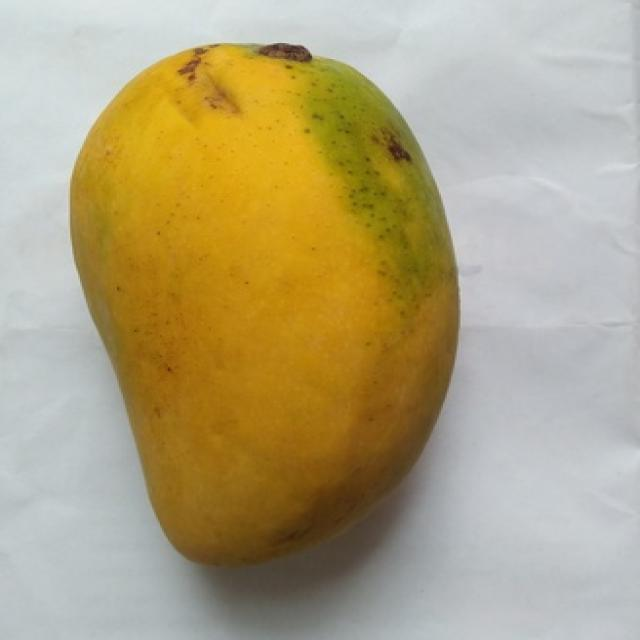Mango: (72, 43, 457, 562)
